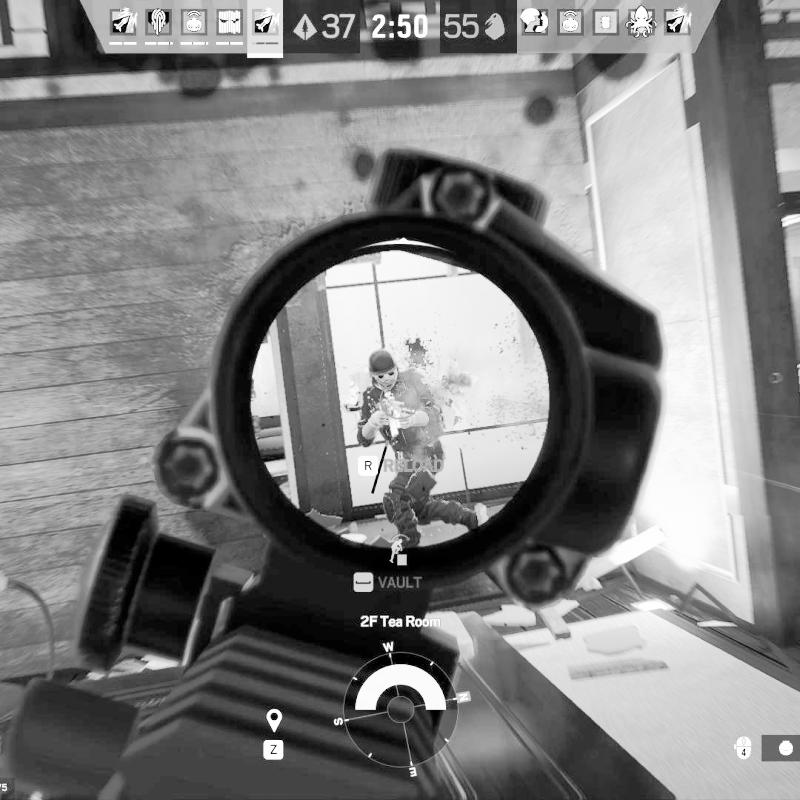Character: (351, 344, 483, 554)
Head: (366, 349, 399, 385)
